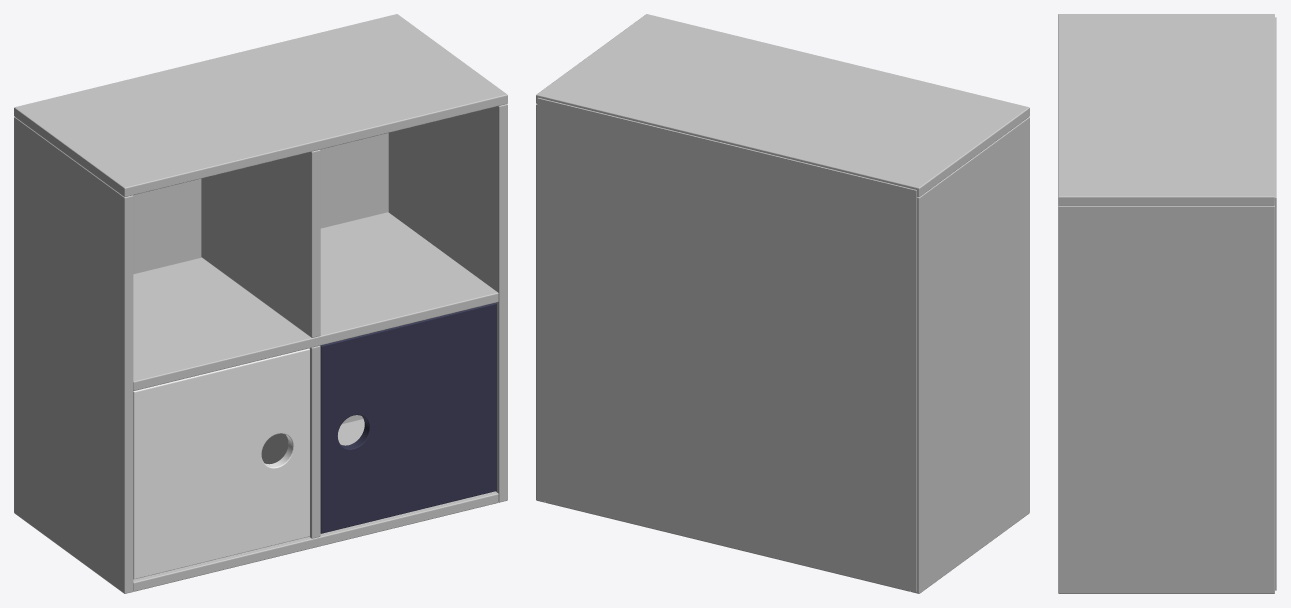
Rendered from SmallDress.fbx.
The picture shows the model from 3 angles, left to right: view 1: azimuth 30°, elevation 25°; view 2: azimuth 150°, elevation 25°; view 3: azimuth 270°, elevation 25°; orthographic projection. The views are drawn at different scales.
Visible parts, largest first — view 1: shelving.001; view 2: shelving.001; view 3: shelving.001.
Boxes of the visible parts, x1,y1,x2,y2 form: shelving.001: (14, 14, 507, 593); shelving.001: (536, 14, 1029, 593); shelving.001: (1058, 14, 1276, 593).
Bounding box in the file's own units: 80 × 80.95 × 40.3.
